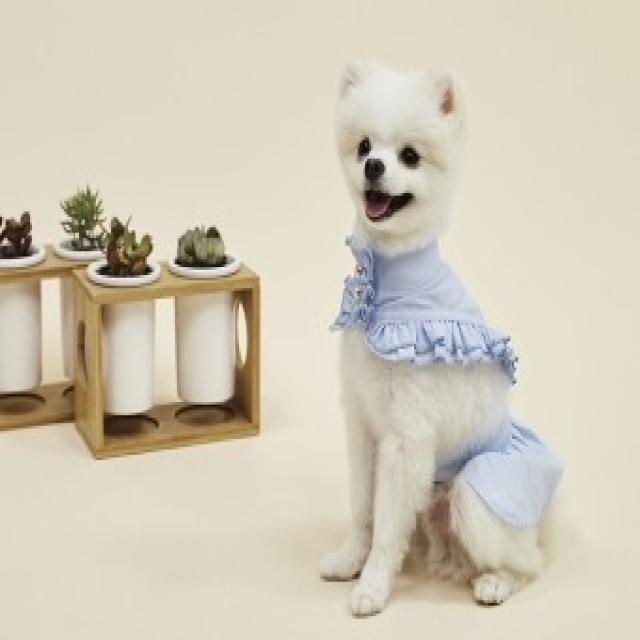cloth: (332, 235, 515, 382), (436, 423, 561, 526)
